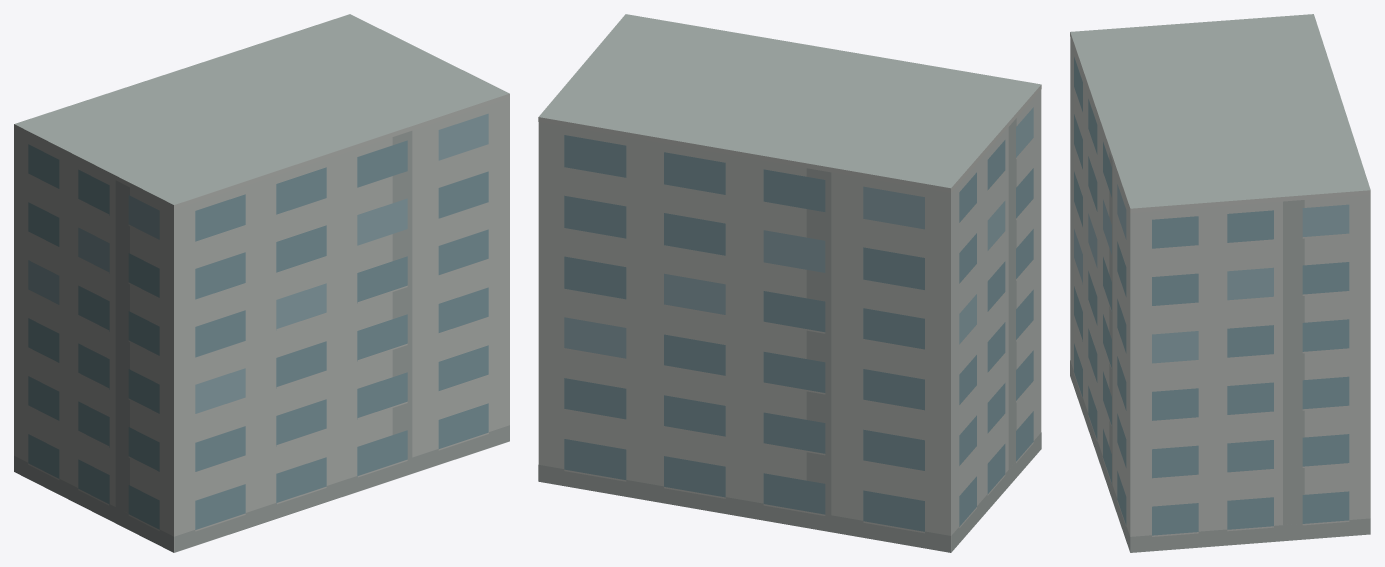
File: survey-upis-32574426.glb
3 renders of one model, left to right at view 1: azimuth 30°, elevation 25°; view 2: azimuth 150°, elevation 25°; view 3: azimuth 270°, elevation 25°, orthographic. The views are drawn at different scales.
Parts seen in each view (by area): view 1: survey-upis-32574426.tmp; view 2: survey-upis-32574426.tmp; view 3: survey-upis-32574426.tmp.
Boxes of the visible parts, box(x1,y1,x2,y2) form: survey-upis-32574426.tmp: box(14, 14, 509, 552); survey-upis-32574426.tmp: box(538, 14, 1041, 552); survey-upis-32574426.tmp: box(1070, 14, 1370, 552).
Bounding box in the file's own units: 22.21 × 18.3 × 14.49.
